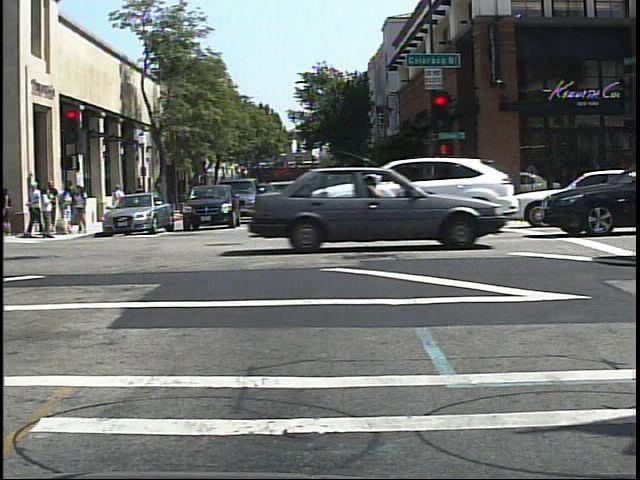person: (108, 181, 127, 225)
